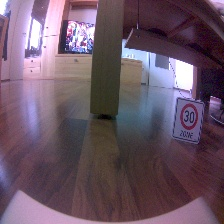dreisiger_zone: (172, 95, 206, 145)
